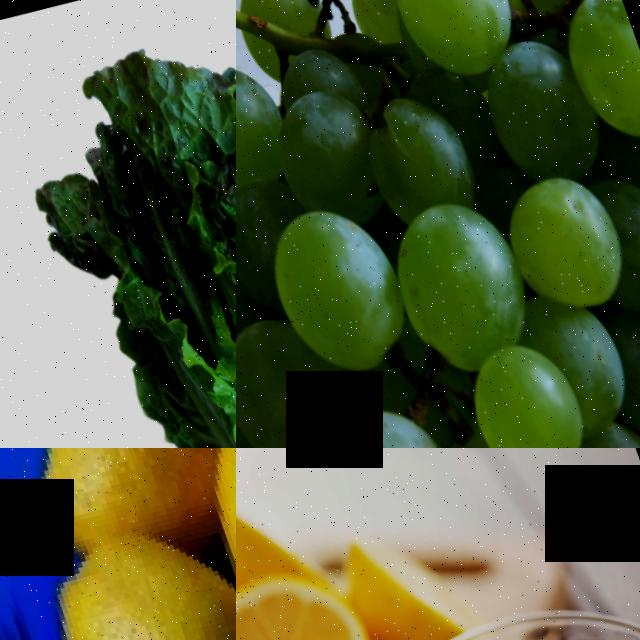grapes: (236, 0, 640, 448)
lemon: (28, 505, 236, 640), (0, 448, 227, 562), (236, 554, 381, 640), (182, 448, 236, 640)
lettuce: (0, 0, 236, 448)
